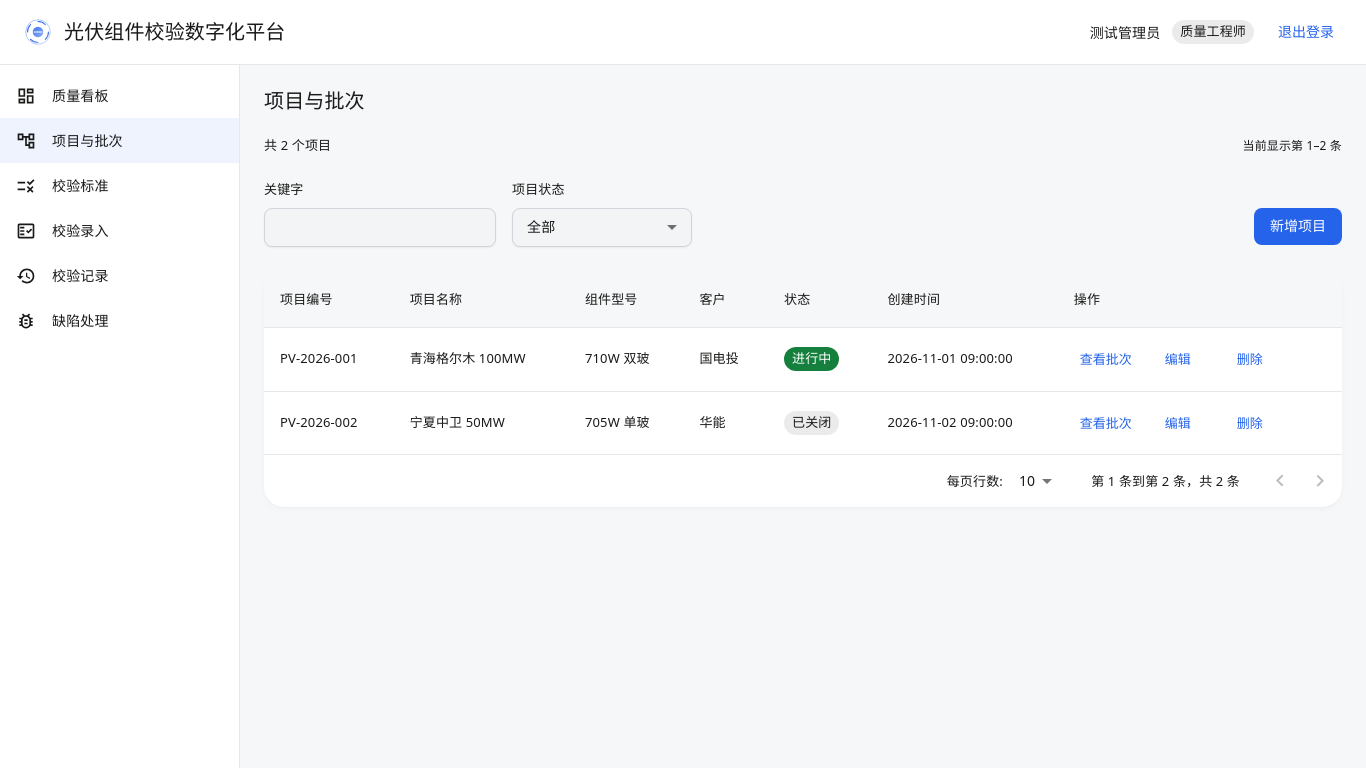
关闭项目的批次区只读
Click the button with aria-label "查看批次 PV-2026-002": (1106, 423) [1074, 408, 1138, 438]
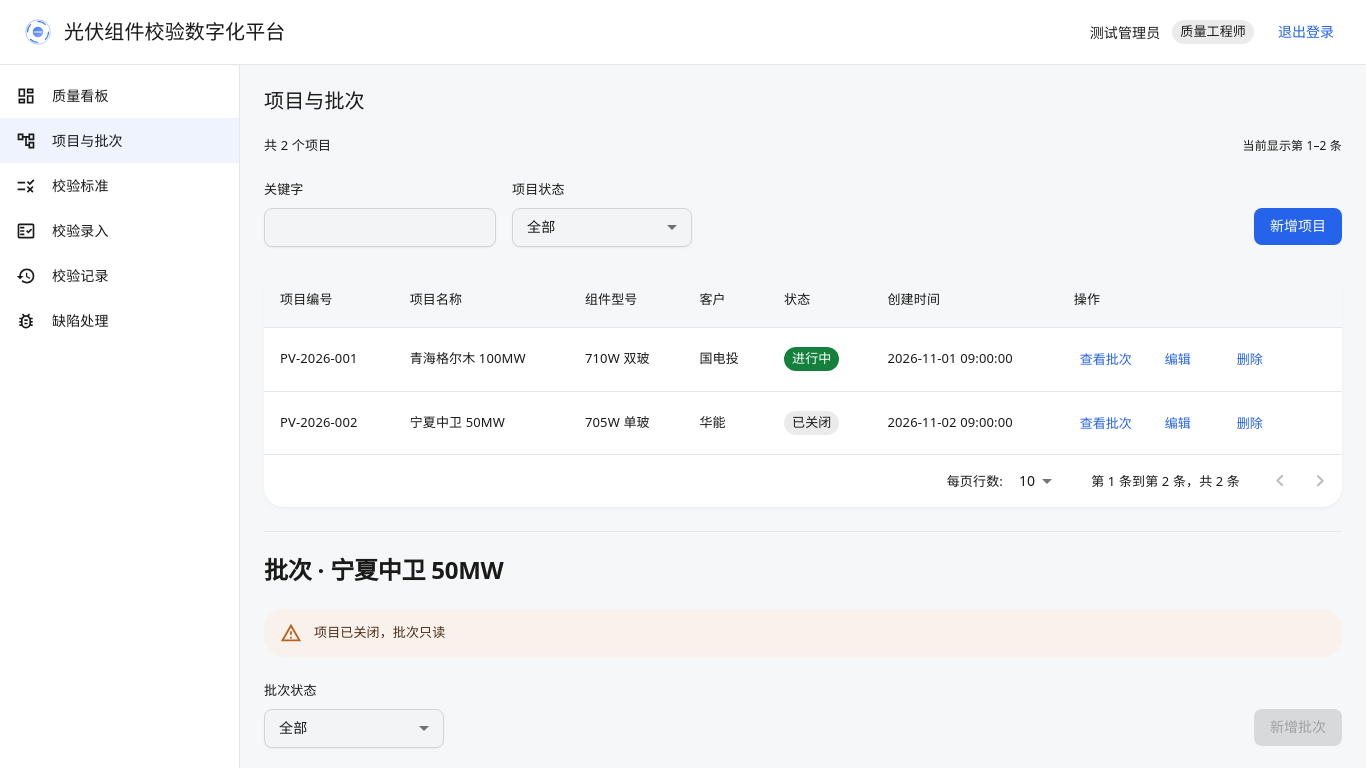
Expected: the text "项目已关闭，批次只读" is shown, [314, 623, 445, 641]
Expected: the button "新增批次" is disabled, [1254, 709, 1342, 746]
